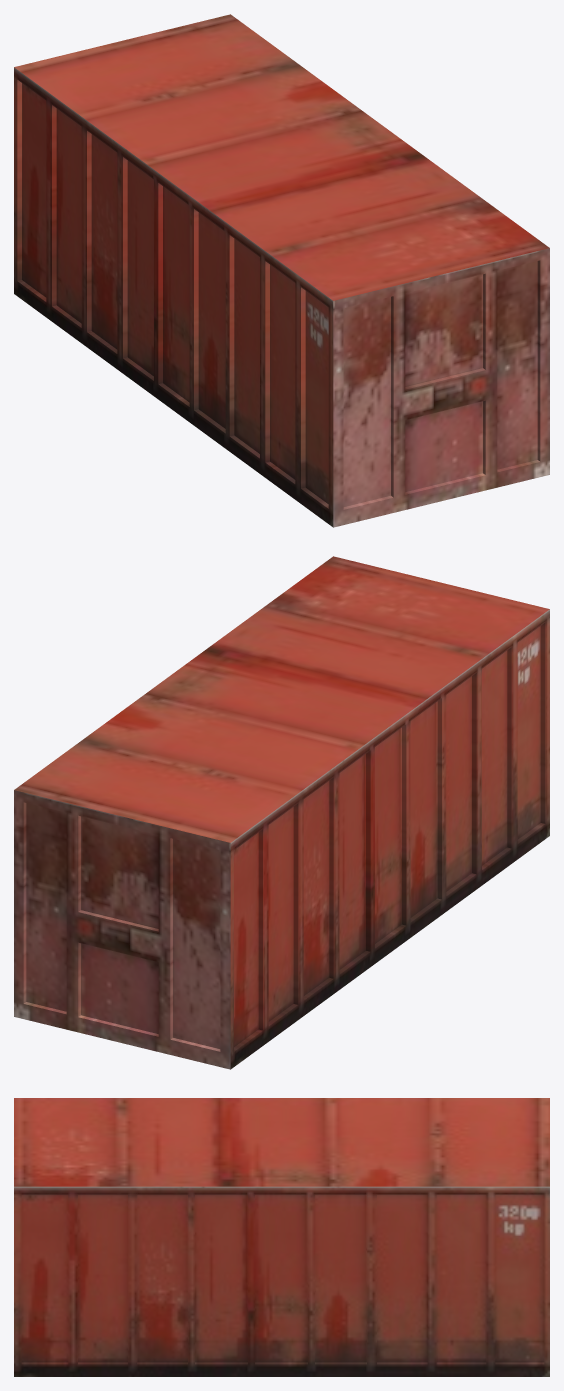
Rendered from cargo_2_v2.fbx.
3 renders of one model, top to bottom at view 1: azimuth 30°, elevation 25°; view 2: azimuth 150°, elevation 25°; view 3: azimuth 270°, elevation 25°, orthographic. The views are drawn at different scales.
Parts seen in each view (by area): view 1: Cube; view 2: Cube; view 3: Cube.
Boxes of the visible parts, x1=… form: Cube: x1=14, y1=14, x2=549, y2=527; Cube: x1=14, y1=556, x2=549, y2=1069; Cube: x1=14, y1=1098, x2=549, y2=1376.
Bounding box in the file's own units: 235 × 235 × 600.
